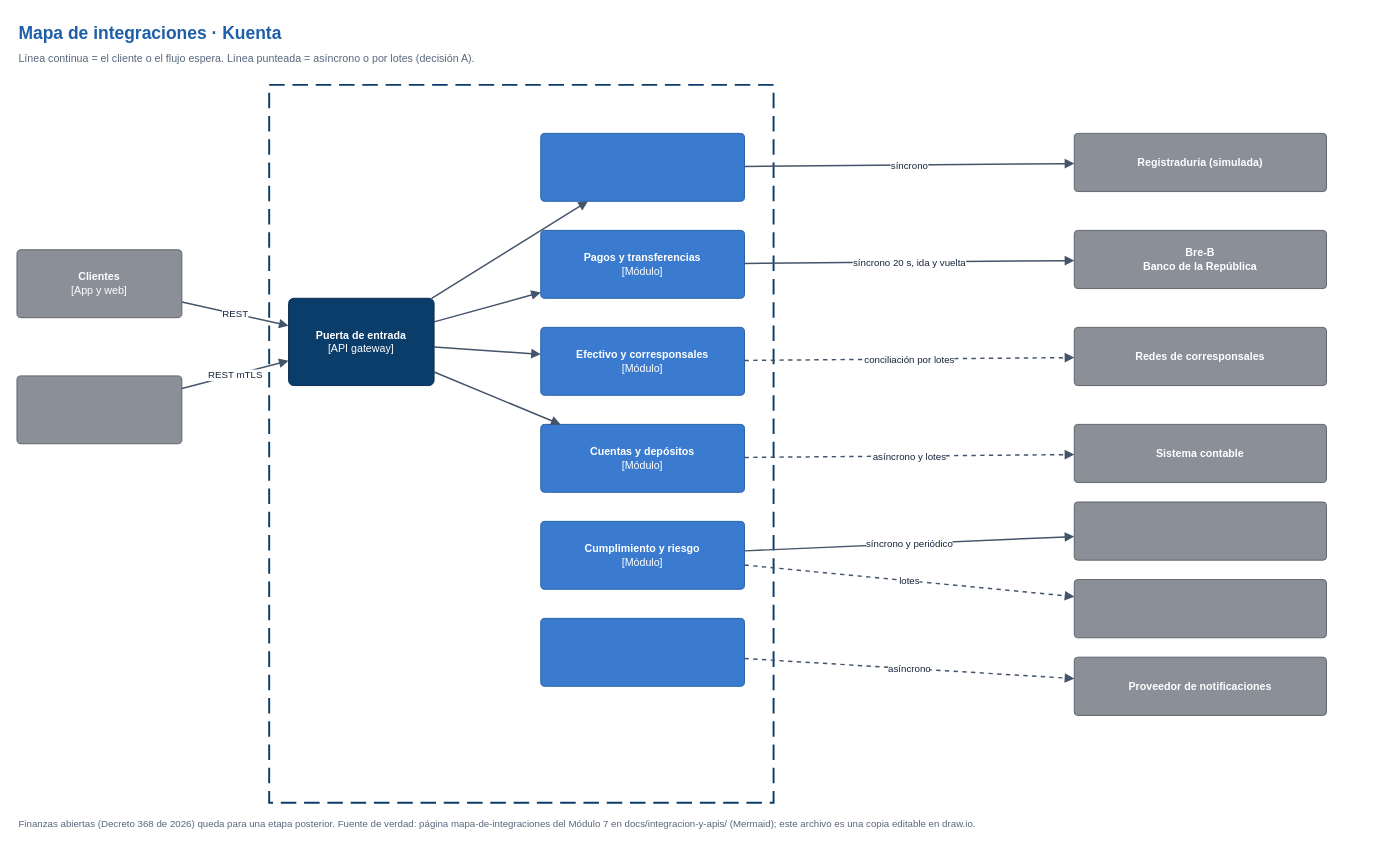
Image size: 1392x852. Some labels were removed from this diagram. Here are the shapes that lost their labels. From the top down, the box of each, then its label:
(540, 132, 744, 201): Identidad y apertura [Módulo]
(16, 375, 182, 444): Terminales de corresponsales
(268, 83, 774, 803): Kuenta · monolito modular
(1073, 501, 1326, 560): Listas restrictivas
(1073, 579, 1326, 638): UIAF y Superfinanciera
(540, 617, 744, 686): Notificaciones [Módulo]
